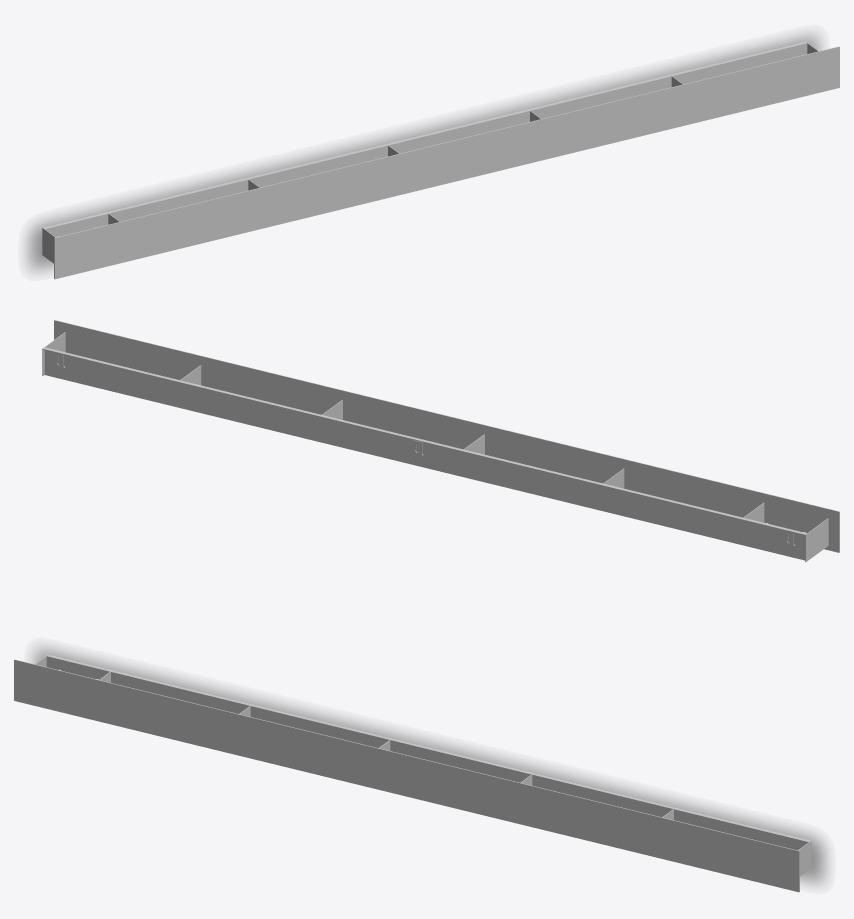
Rendered from skyline-patron.d918f82b37.ar.glb.
The picture shows the model from 3 angles, top to bottom: view 1: azimuth 30°, elevation 25°; view 2: azimuth 150°, elevation 25°; view 3: azimuth 330°, elevation 25°; orthographic projection.
Parts seen in each view (by area): view 1: NAUO1, object 2; view 2: NAUO1; view 3: NAUO1, object 2.
Boxes of the visible parts, x1,y1,x2,y2 form: NAUO1: (42,41,839,279); object 2: (26,34,821,271); NAUO1: (42,320,839,562); NAUO1: (14,654,811,892); object 2: (32,647,827,884).
Bounding box in the file's own units: 1.88 × 0.17 × 0.0929.
2 materials, 1 textured.
